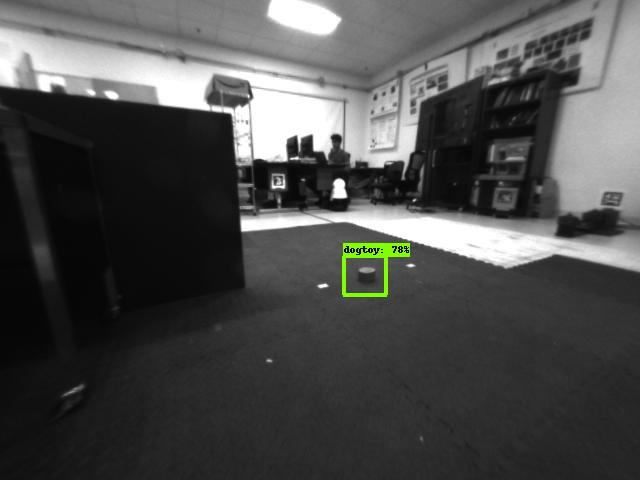dogtoy: (341, 257, 392, 296)
